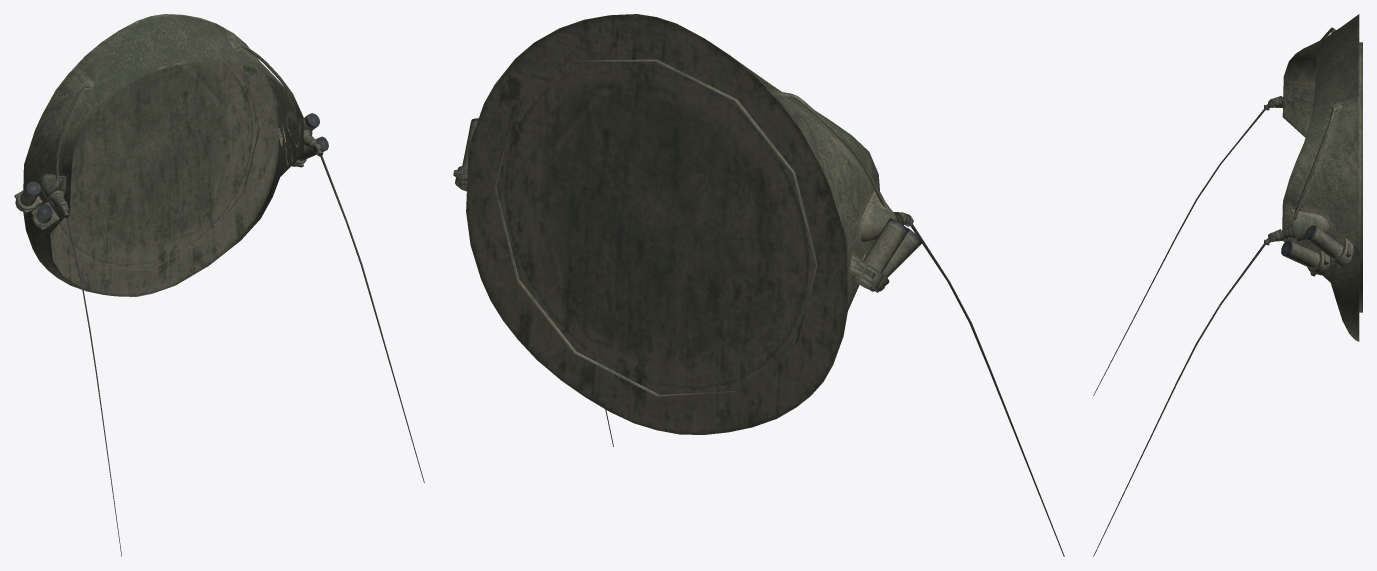
Rendered from Turret_01.glb.
3 renders of one model, left to right at view 1: azimuth 30°, elevation 25°; view 2: azimuth 150°, elevation 25°; view 3: azimuth 270°, elevation 25°, orthographic. The views are drawn at different scales.
Parts seen in each view (by area): view 1: set_0_group_0; view 2: set_0_group_0; view 3: set_0_group_0.
Part boxes in pixels (bbox=[...]): set_0_group_0: bbox=[14, 14, 424, 556]; set_0_group_0: bbox=[453, 14, 1064, 556]; set_0_group_0: bbox=[1093, 14, 1362, 556].
Size of the model in its own units: 2.01 by 2.62 by 1.42.
1 material, 1 textured.
